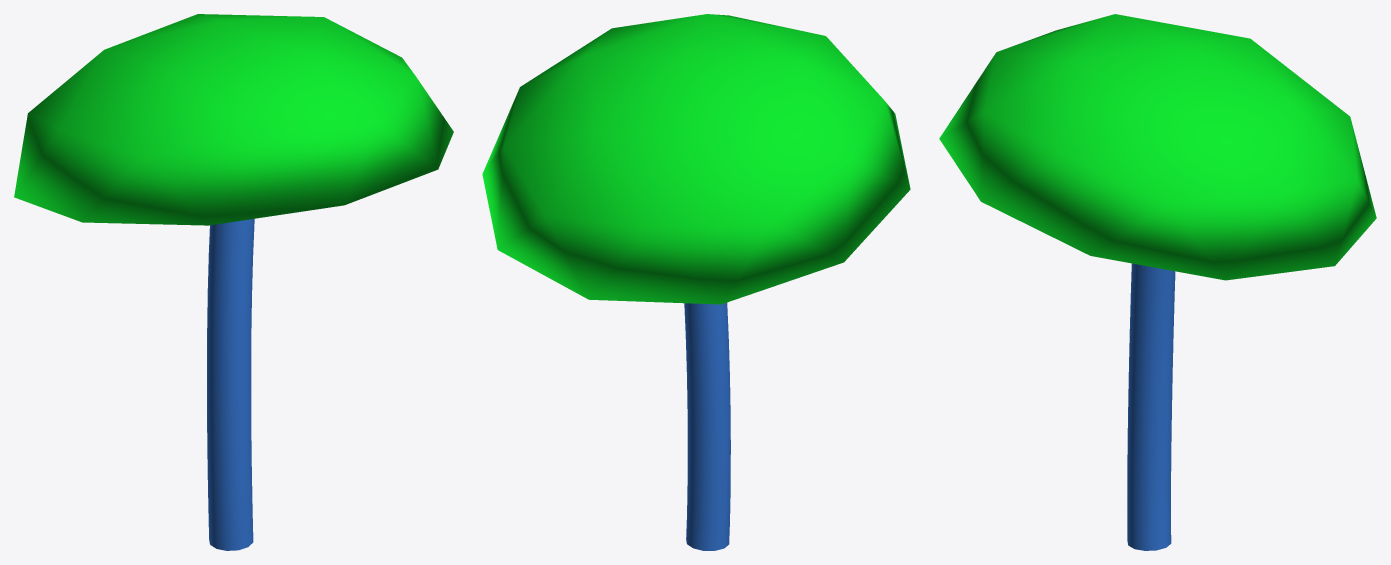
Rendered from hongoPeq2-0.fbx.
3 renders of one model, left to right at view 1: azimuth 30°, elevation 25°; view 2: azimuth 150°, elevation 25°; view 3: azimuth 270°, elevation 25°, orthographic. The views are drawn at different scales.
Visible parts, largest first — view 1: Esfera geodésica.007, Curva Bezier.007; view 2: Esfera geodésica.007, Curva Bezier.007; view 3: Esfera geodésica.007, Curva Bezier.007.
Part boxes in pixels (left/top/right/bottom): Esfera geodésica.007: left=14, top=14, right=453, bottom=225; Curva Bezier.007: left=207, top=218, right=254, bottom=550; Esfera geodésica.007: left=482, top=14, right=910, bottom=304; Curva Bezier.007: left=684, top=302, right=730, bottom=550; Esfera geodésica.007: left=939, top=14, right=1376, bottom=280; Curva Bezier.007: left=1127, top=263, right=1175, bottom=550.
Size of the model in its own units: 190 by 247 by 196.
